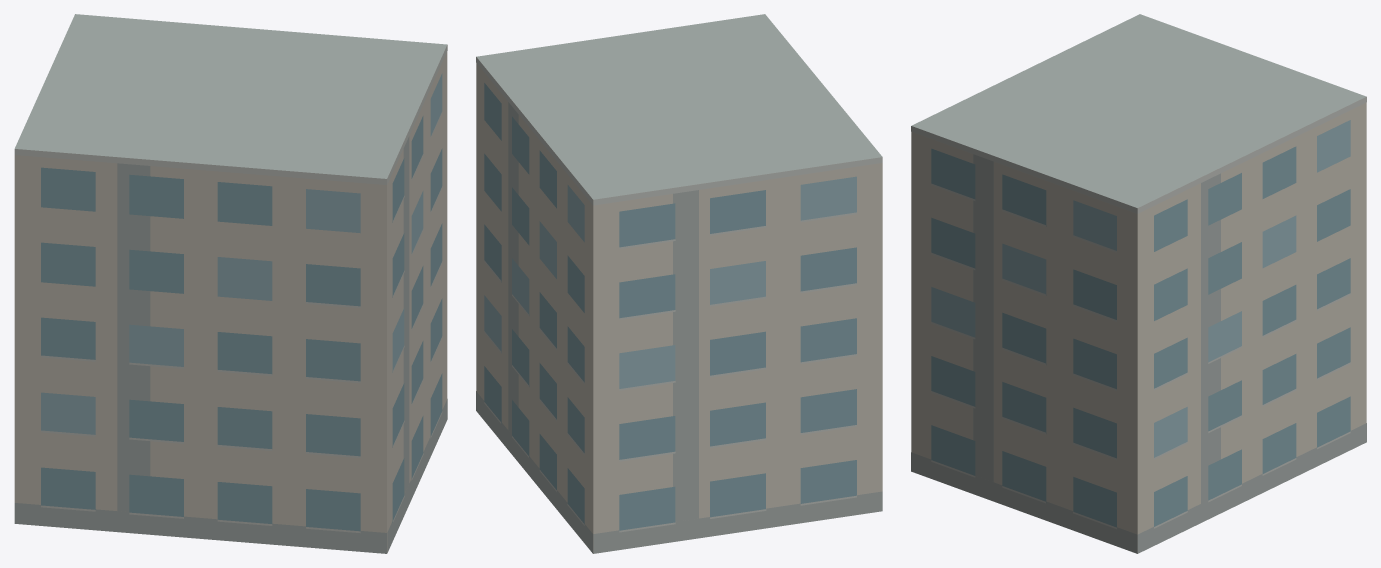
Rendered from survey-upis-32854228.glb.
The picture shows the model from 3 angles, left to right: view 1: azimuth 30°, elevation 25°; view 2: azimuth 150°, elevation 25°; view 3: azimuth 270°, elevation 25°; orthographic projection. The views are drawn at different scales.
Parts seen in each view (by area): view 1: survey-upis-32854228.tmp; view 2: survey-upis-32854228.tmp; view 3: survey-upis-32854228.tmp.
Part boxes in pixels (x1=…): survey-upis-32854228.tmp: x1=14, y1=14, x2=447, y2=553; survey-upis-32854228.tmp: x1=476, y1=14, x2=882, y2=553; survey-upis-32854228.tmp: x1=911, y1=14, x2=1366, y2=553.
Size of the model in its own units: 17.84 by 14.8 by 17.68.
